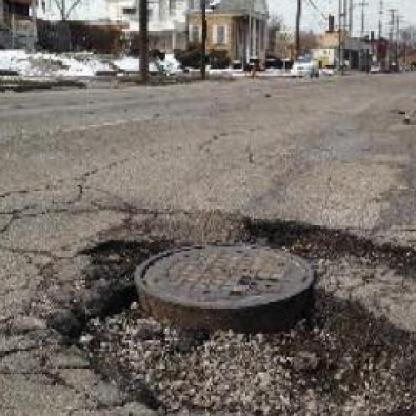pothole: (55, 236, 416, 416), (239, 213, 362, 264)
